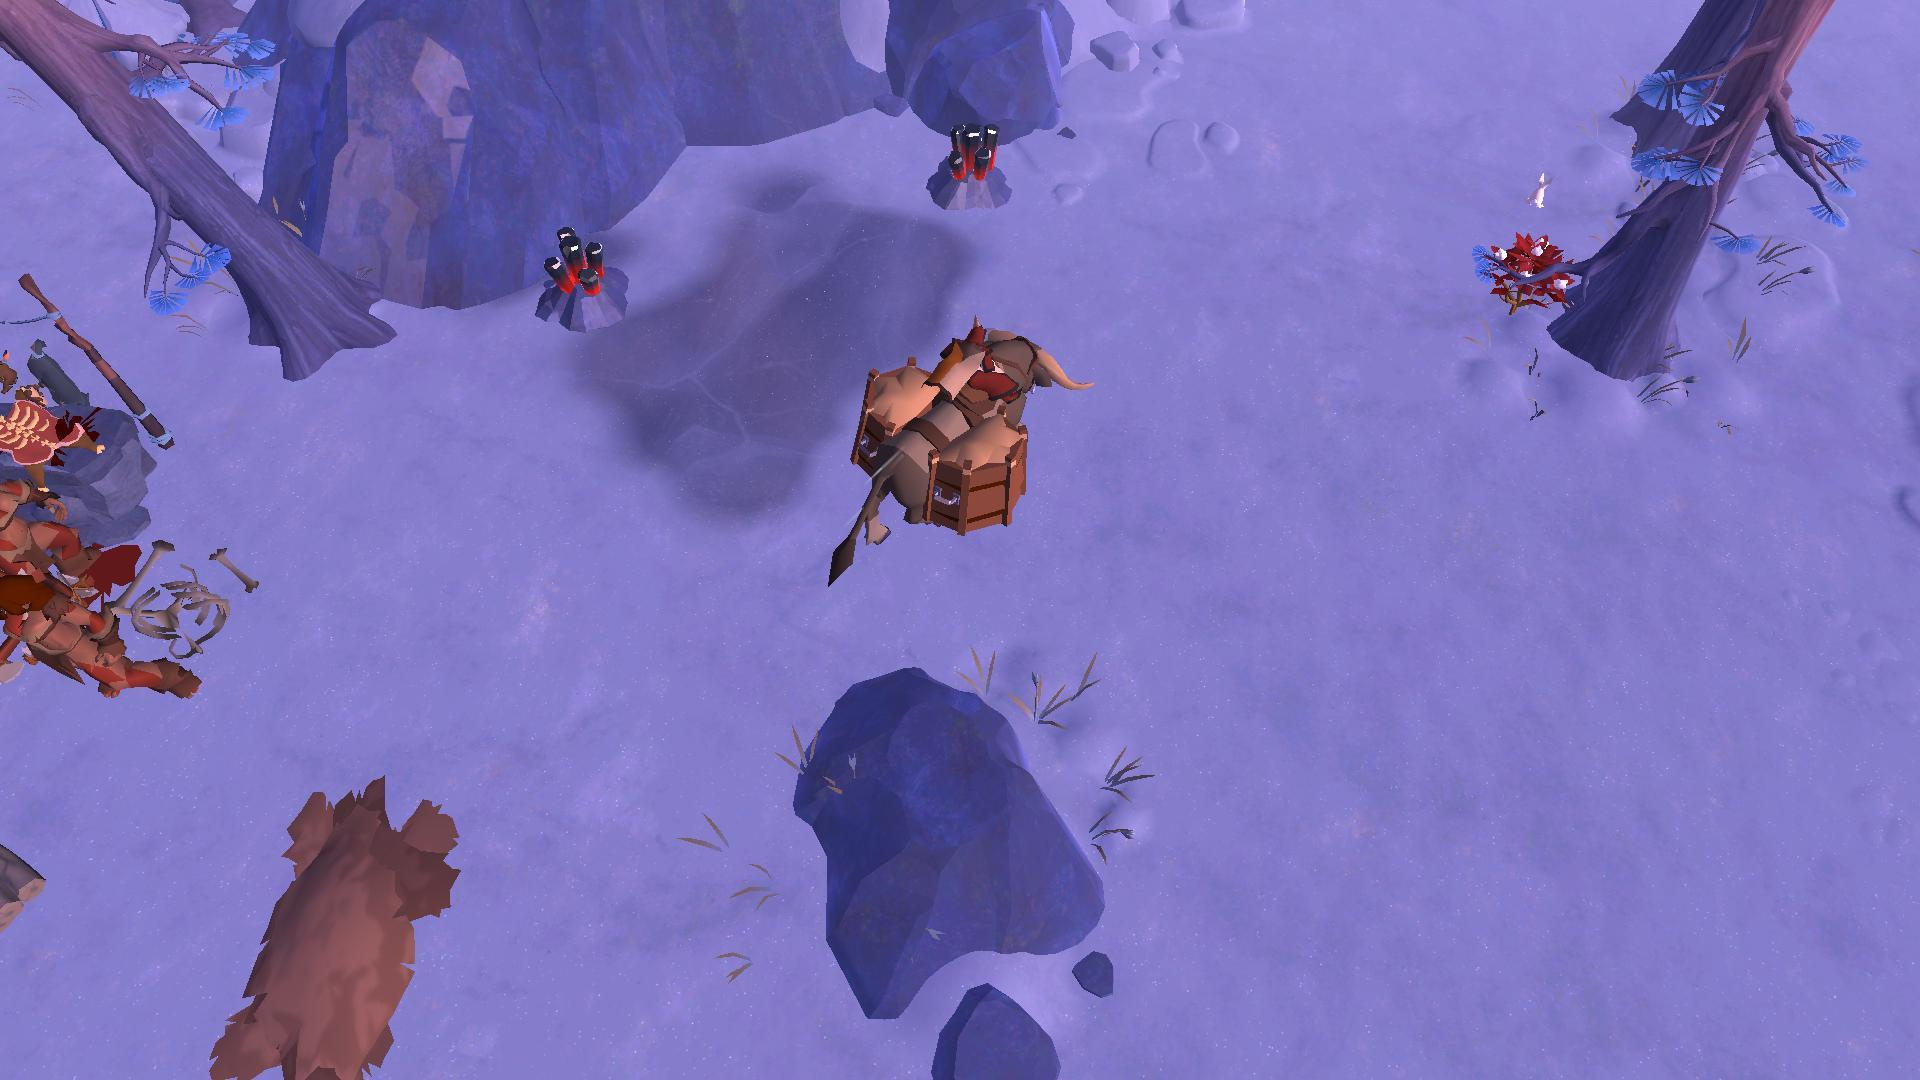enemy_factionKeeper: (0, 564, 200, 711), (0, 469, 98, 592)
fiber_t5: (1485, 229, 1581, 307)
ore_t5: (541, 220, 612, 303), (934, 115, 1006, 191)
